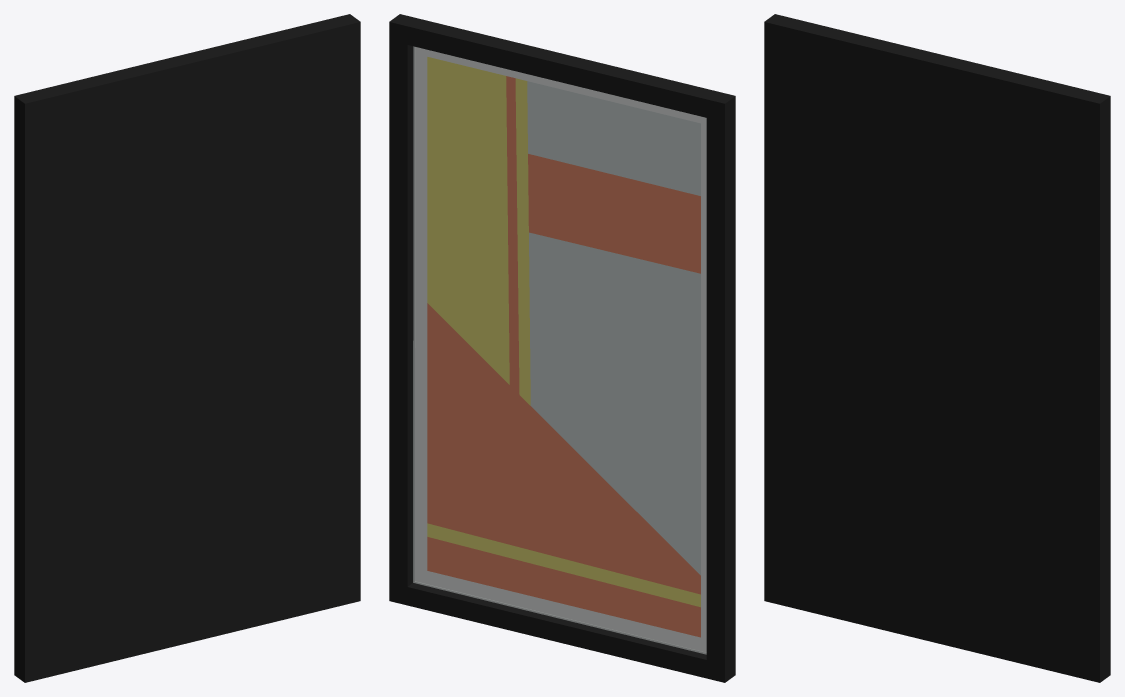
Rendered from Wall Art 07.glb.
The picture shows the model from 3 angles, left to right: view 1: azimuth 30°, elevation 25°; view 2: azimuth 150°, elevation 25°; view 3: azimuth 330°, elevation 25°; orthographic projection.
Visible parts, largest first — view 1: Node; view 2: Node; view 3: Node.
Boxes of the visible parts, left/top/right/bottom form: Node: left=14, top=14, right=360, bottom=682; Node: left=389, top=14, right=735, bottom=682; Node: left=764, top=14, right=1110, bottom=682.
Bounding box in the file's own units: 0.54 × 0.89 × 0.03.
